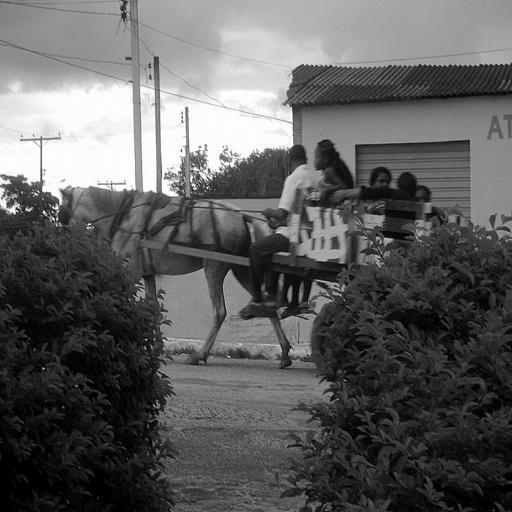horse: (58, 186, 294, 370)
